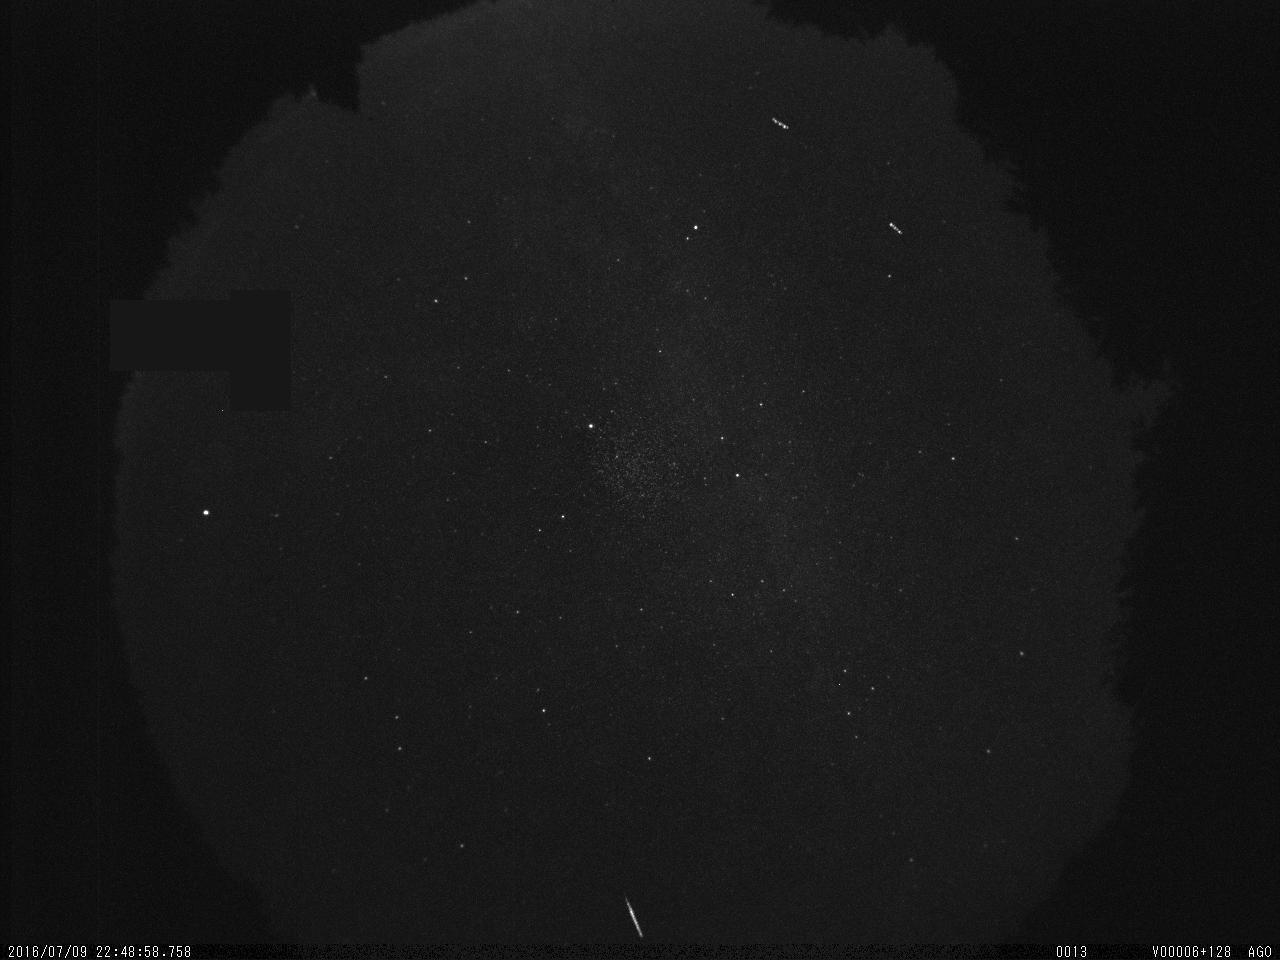Meteor: (620, 888, 647, 942)
